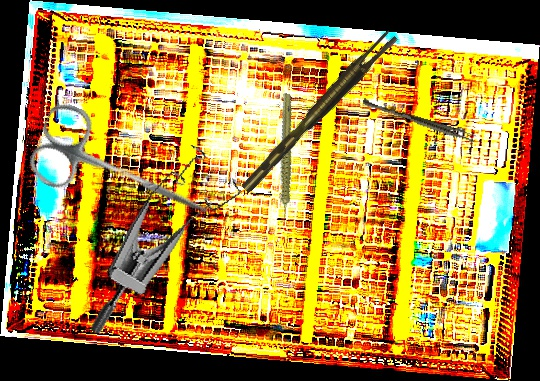Handpiece: (250, 92, 318, 224)
Iris Scissors: (23, 98, 225, 247)
Speculum: (88, 132, 250, 362)
Tissue Forceps: (233, 28, 403, 194), (360, 97, 478, 144)
